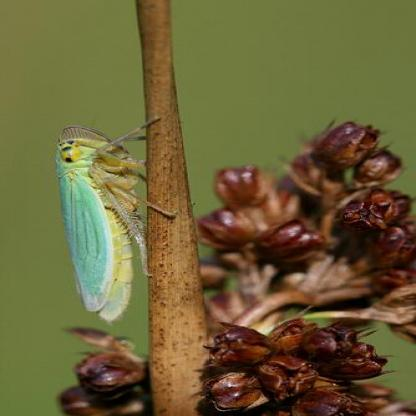Green-Leafhopper: (53, 122, 187, 328)
